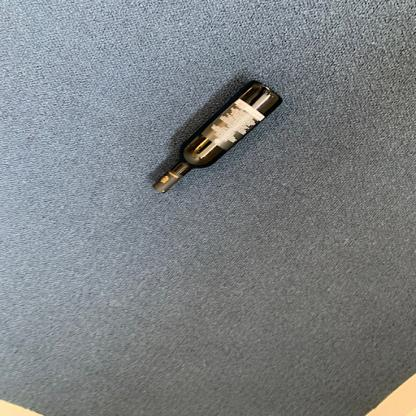trash: (150, 80, 286, 197)
